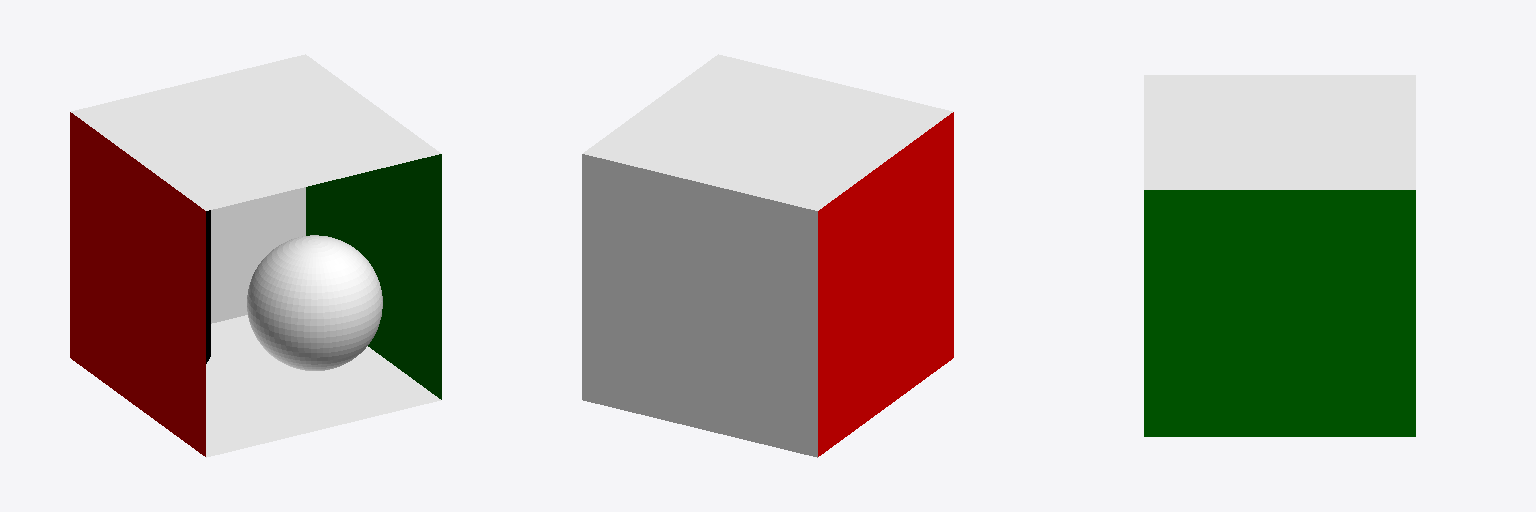
Rendered from cornellbox.obj.
3 views of the same model, side by side, from view 1: azimuth 30°, elevation 25°; view 2: azimuth 150°, elevation 25°; view 3: azimuth 270°, elevation 25° (orthographic).
Parts seen in each view (by area): view 1: default; view 2: default; view 3: default.
Boxes of the visible parts, box(x1,y1,x2,y2) form: default: box(70, 54, 441, 457); default: box(582, 54, 953, 457); default: box(1144, 75, 1415, 436).
Bounding box in the file's own units: 2 × 2 × 2.